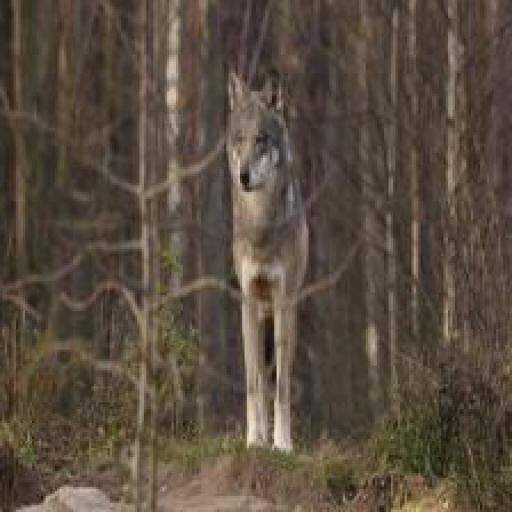wolf: (203, 59, 342, 471)
